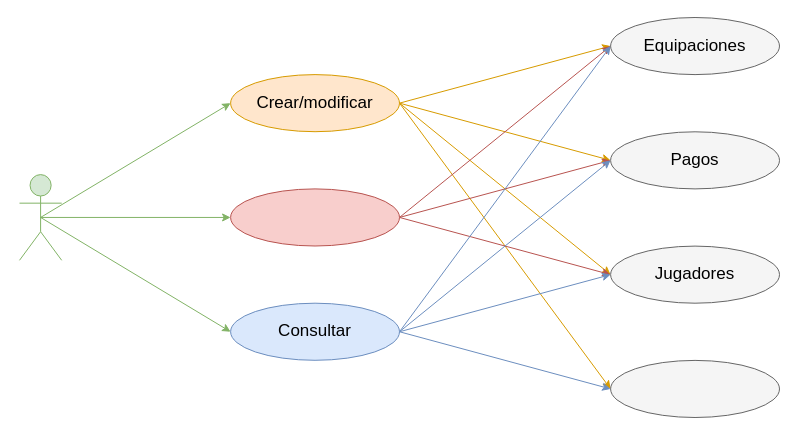
Some shapes in this 798 by 435 pixel diagram are drawn without their labels. Each missing label, with the centre of its shape:
"Admin" goes at (x=40, y=217).
"Configuracion" goes at (x=695, y=388).
"Eliminar" goes at (x=315, y=217).
